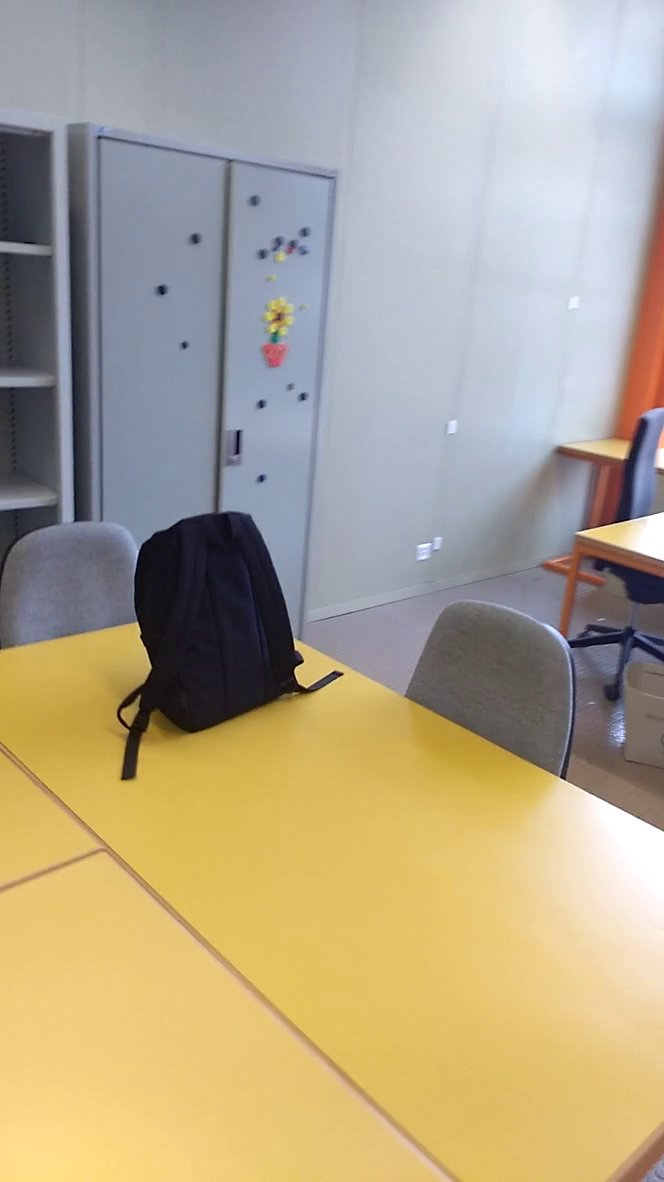bag: (112, 500, 347, 784)
chair: (384, 573, 587, 823), (2, 505, 162, 663), (594, 392, 664, 620)
